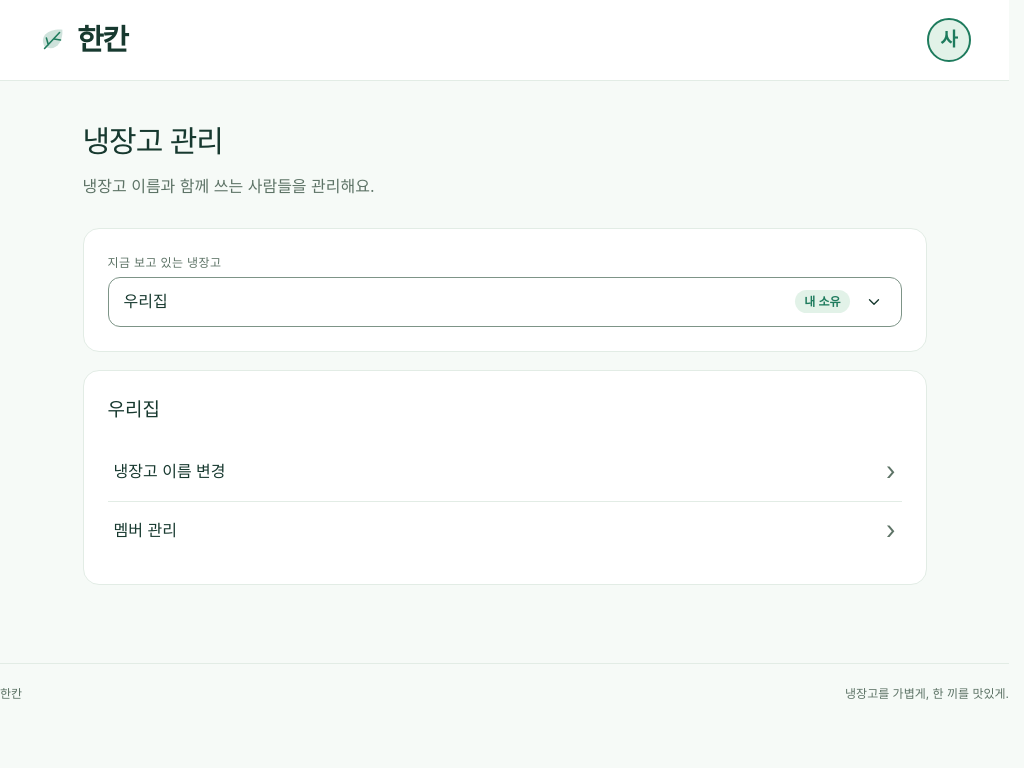
management_dialogs_close_without_leaving_duplicates
What coordinates should you click on to do the following:
click the button "멤버 관리 ›"
I would click on:
 (145, 530)
Its box is [108,502,902,560].
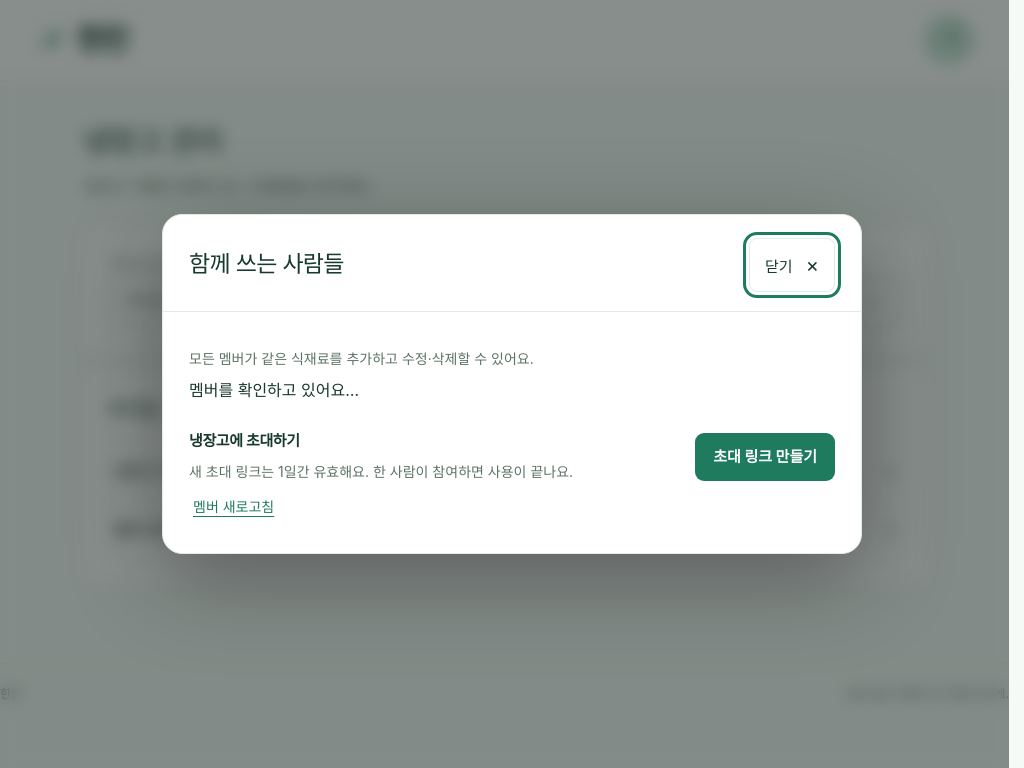
Now the dialog "함께 쓰는 사람들" is shown, box [162,214,862,554]
What coordinates should you click on to do the following:
click the button with aria-label "함께 쓰는 사람들 닫기"
I would click on:
 (792, 265)
Its box is [749,238,835,292].
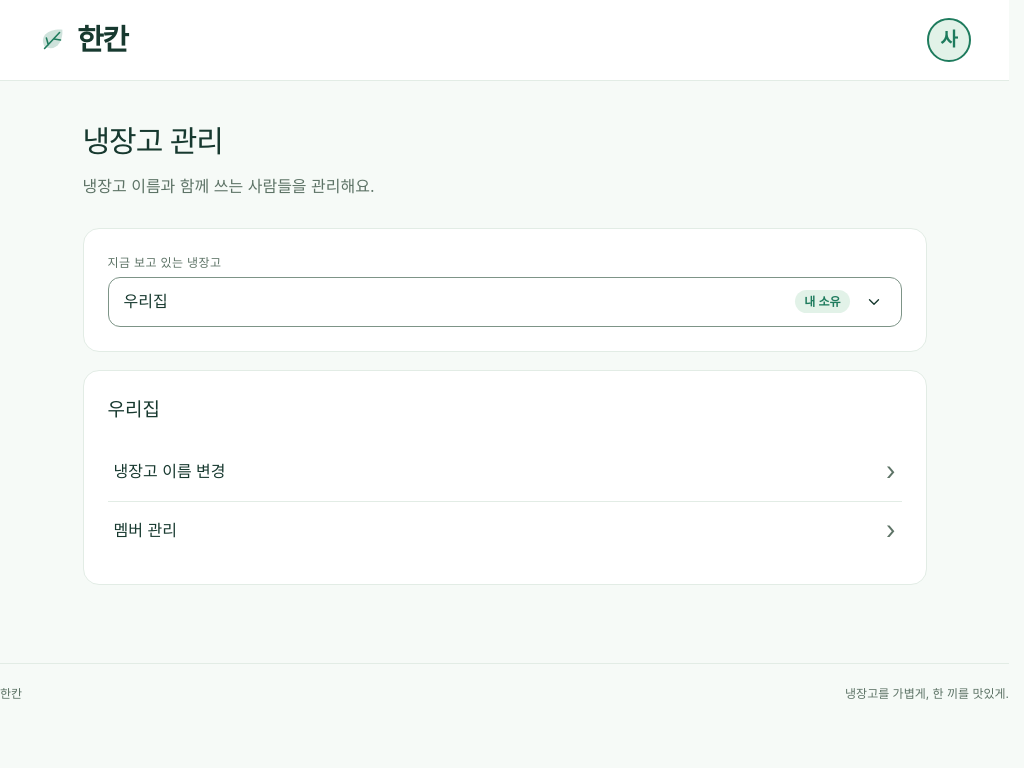
Now the dialog is gone
What coordinates should you click on to do the following:
click the button "냉장고 이름 변경 ›"
I would click on:
 (170, 471)
Its box is [108,443,902,502].
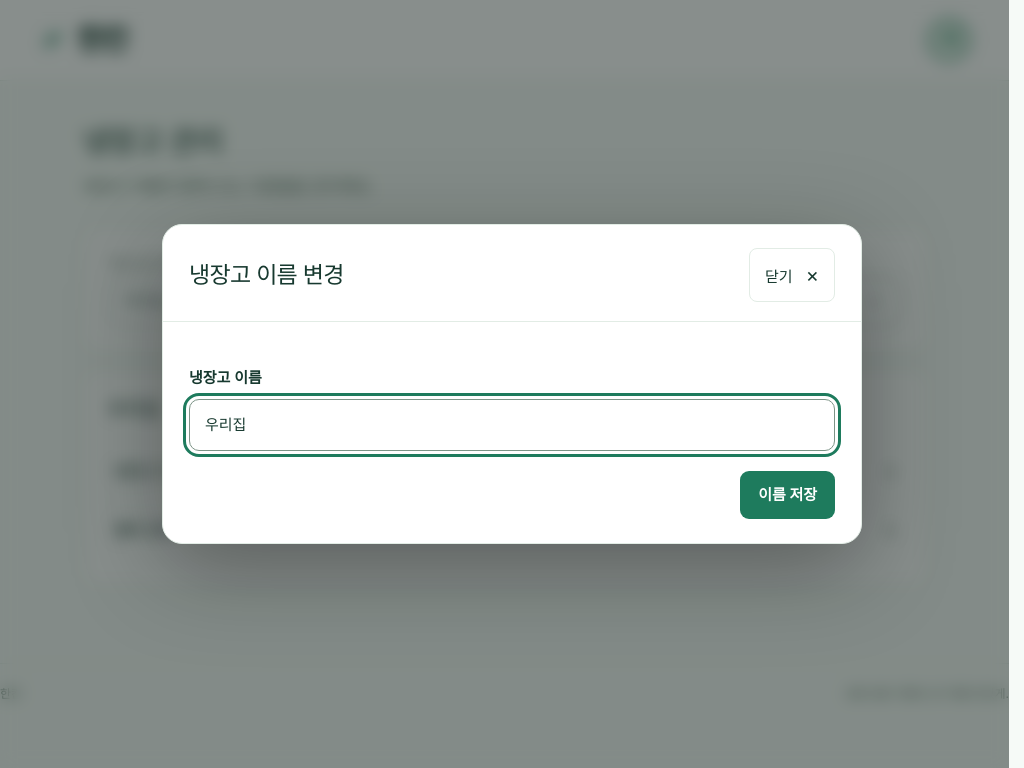
Now the number of dialogs is 1, box [162,224,862,544]
